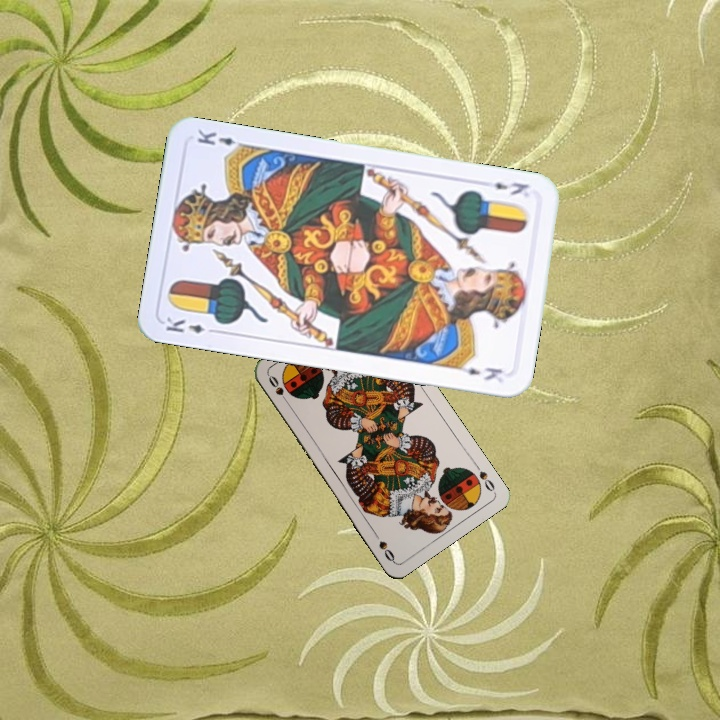EK: (161, 312, 220, 336), (490, 178, 532, 198)
SO: (264, 371, 292, 408), (470, 459, 497, 494)
